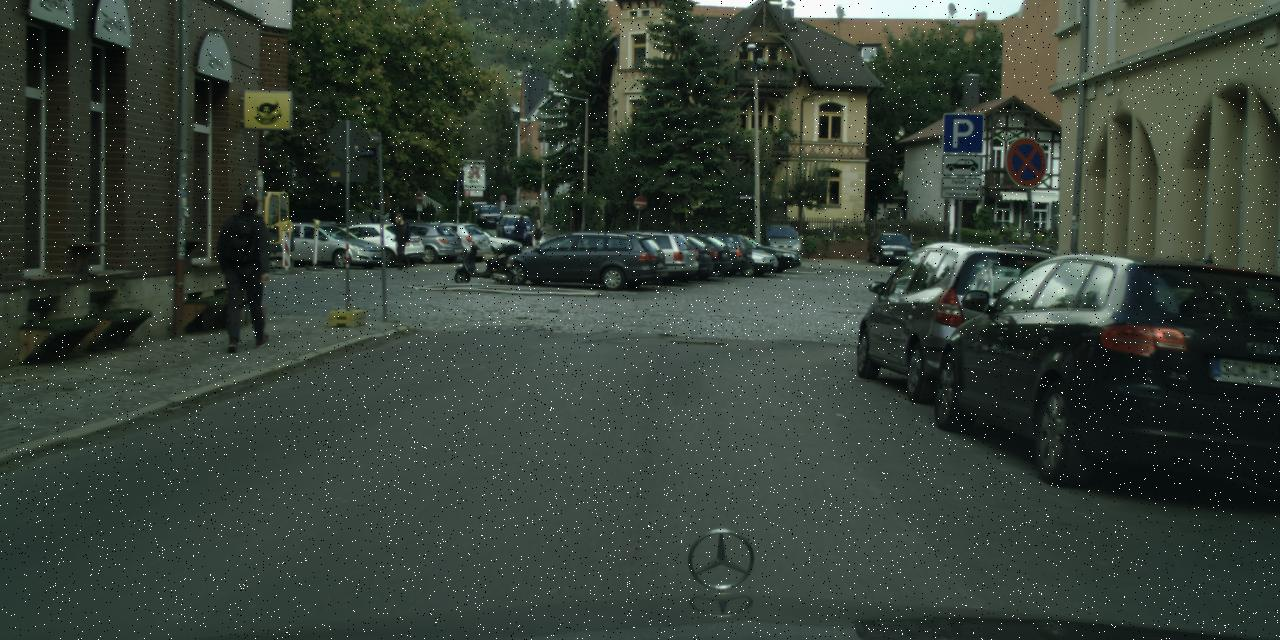ped: (216, 194, 278, 350), (391, 213, 413, 269), (512, 215, 527, 253), (531, 219, 544, 251)
